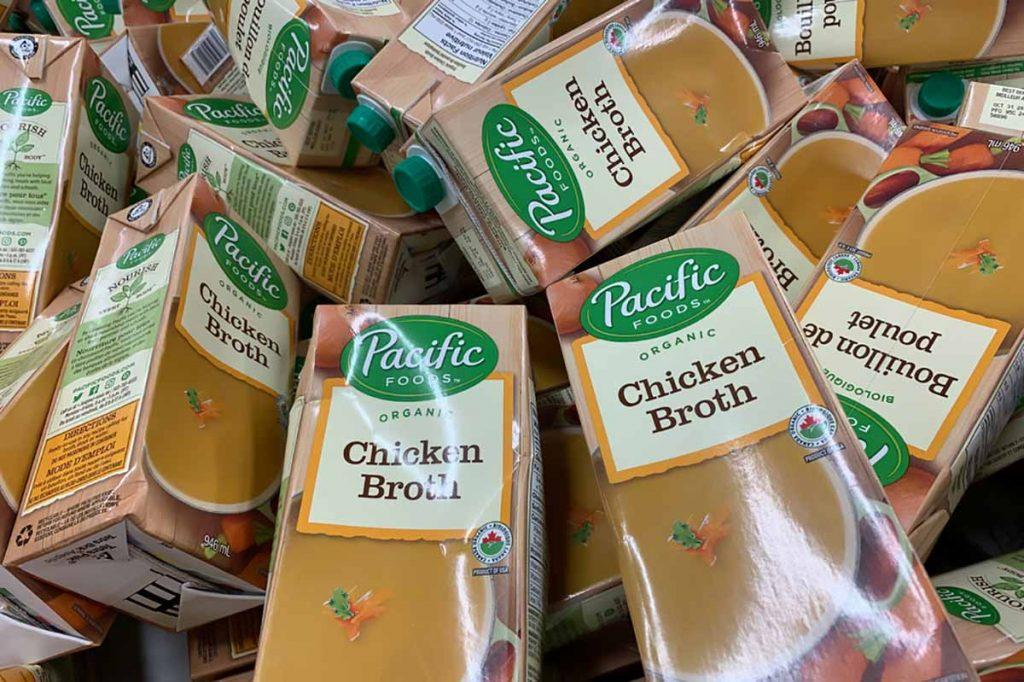cardboard: (555, 215, 965, 682), (721, 66, 1024, 546), (0, 181, 278, 682), (348, 0, 807, 283), (264, 298, 544, 682), (121, 0, 451, 301), (0, 15, 130, 315)
